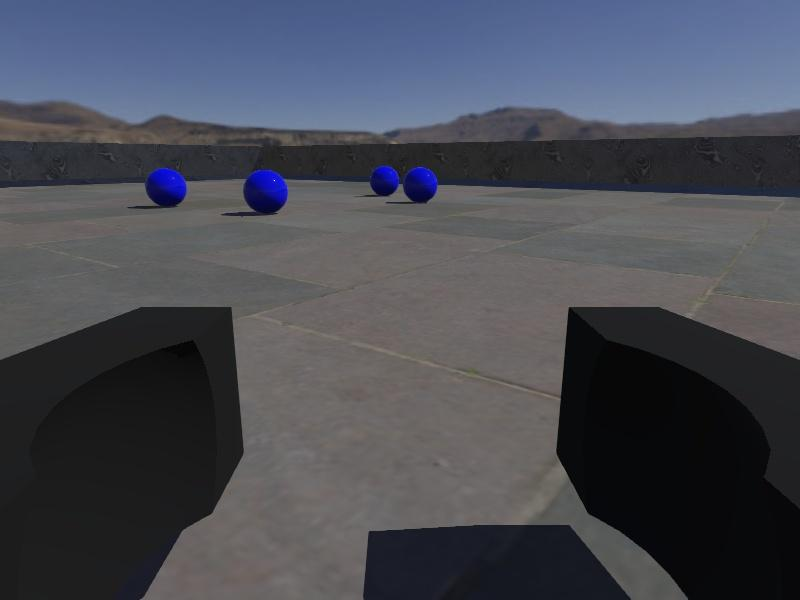blue ball: (243, 168, 288, 214), (145, 166, 188, 208), (403, 166, 440, 204), (371, 165, 401, 195)
